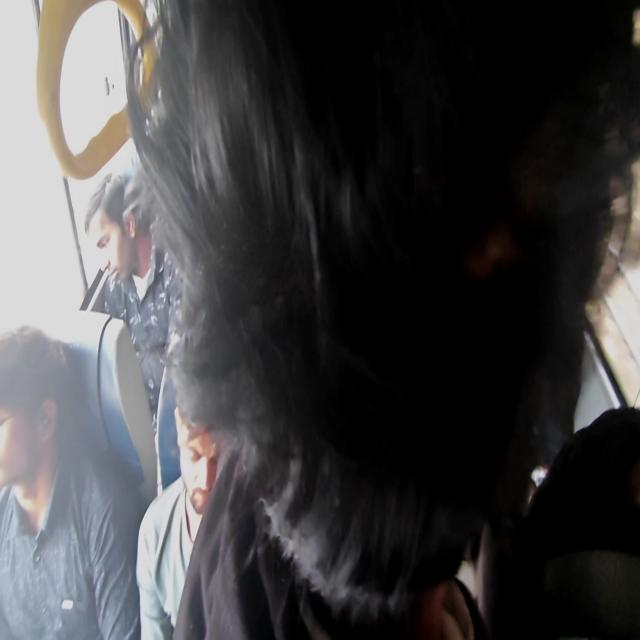person: (123, 0, 634, 638), (0, 324, 142, 638), (82, 162, 186, 497), (134, 401, 229, 637)
